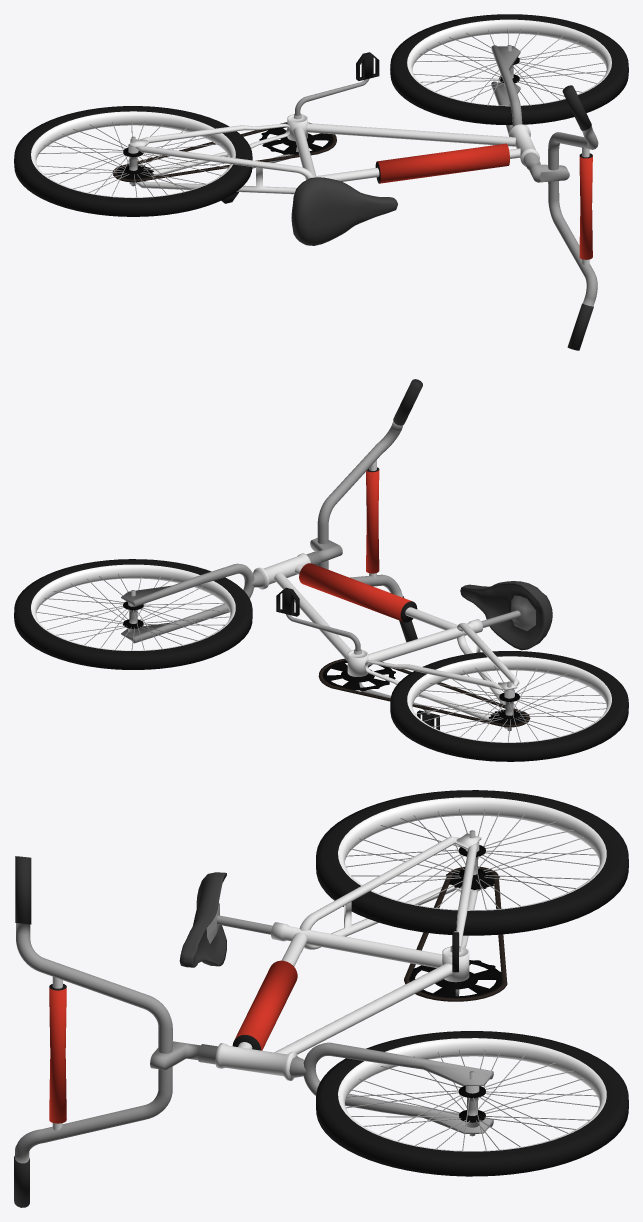
Rendered from bike.fbx.
The picture shows the model from 3 angles, top to bottom: view 1: azimuth 30°, elevation 25°; view 2: azimuth 150°, elevation 25°; view 3: azimuth 270°, elevation 25°; orthographic projection. The views are drawn at different scales.
Parts seen in each view (by area): view 1: Frame; view 2: Frame; view 3: Frame.
Part boxes in pixels (left/top/right/bottom): Frame: left=14, top=14, right=628, bottom=350; Frame: left=14, top=379, right=628, bottom=761; Frame: left=14, top=790, right=628, bottom=1207.
Size of the model in its own units: 1.89 by 0.8215 by 1.32.
